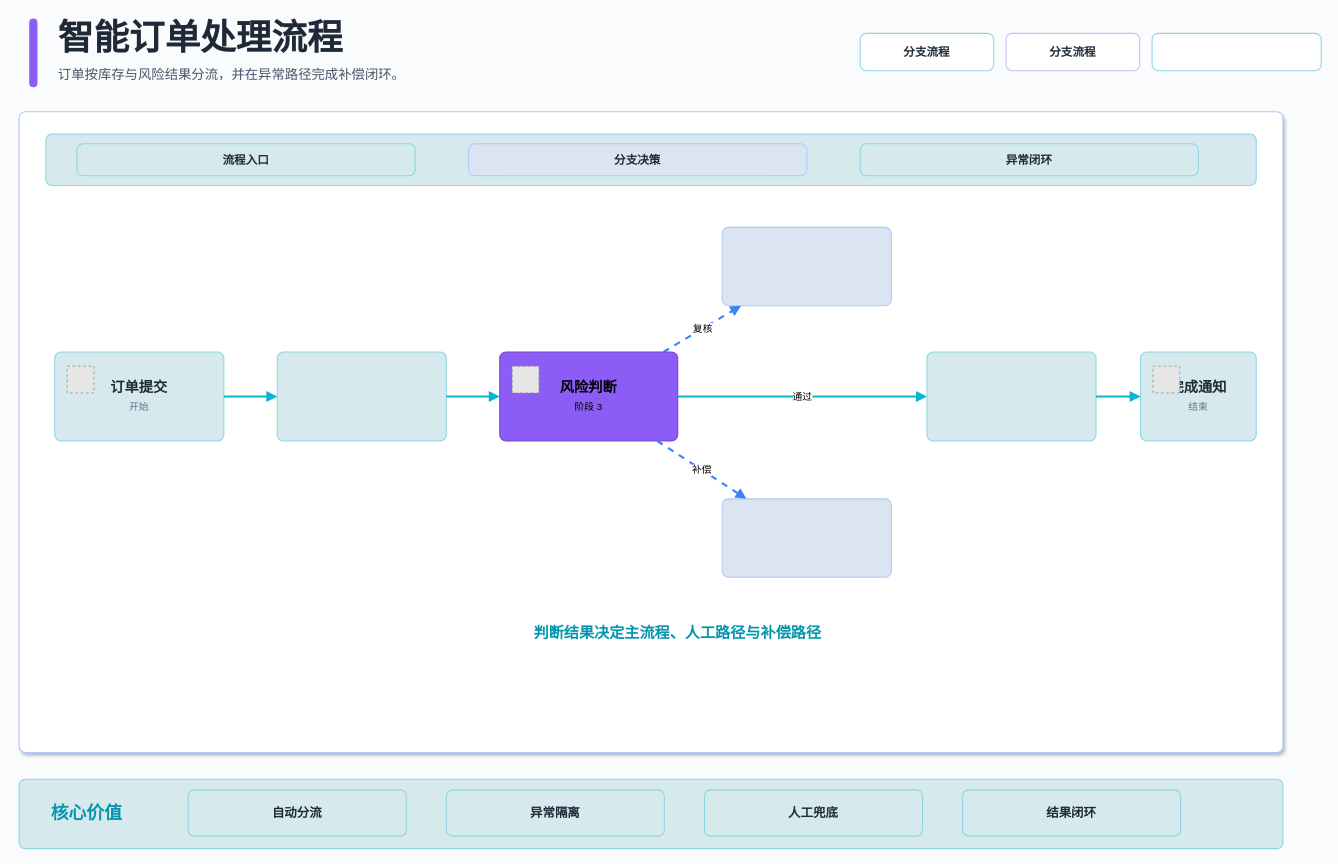
Some shapes in this 1338 by 864 pixel diagram are drawn without their labels. Grey dashed boxes stand in for pictures. The shapes that lost their labels are listed below. From the top down, each one's centre as x and y in pixels, then its label:
At pixel 1236 51: "Vibrant".
At pixel 806 266: "人工复核 风险路径".
At pixel 361 396: "库存校验 阶段 2".
At pixel 1011 396: "自动履约 阶段 4".
At pixel 806 537: "失败补偿 补偿路径".
